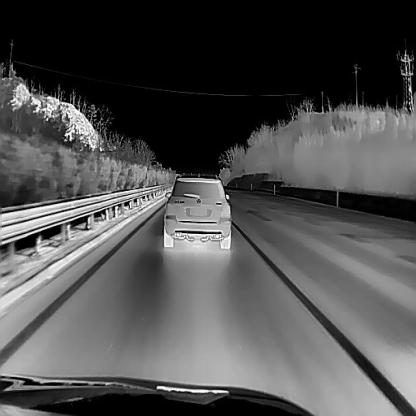car: (163, 173, 231, 248)
